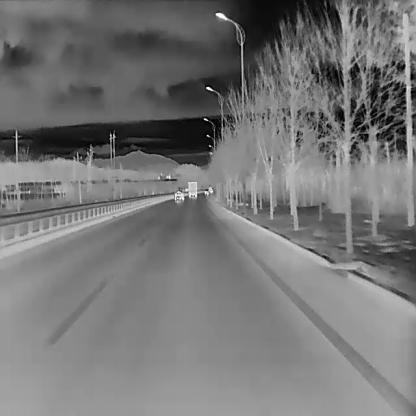car: (187, 181, 197, 198), (174, 189, 184, 200), (204, 189, 209, 194)
